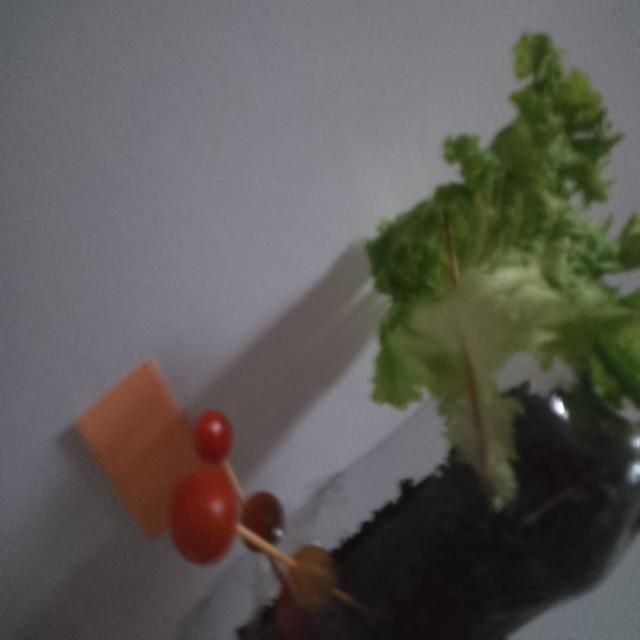card: (76, 362, 202, 537)
fruit_maturation: (287, 545, 337, 609)
fully_grown: (170, 410, 284, 564)
